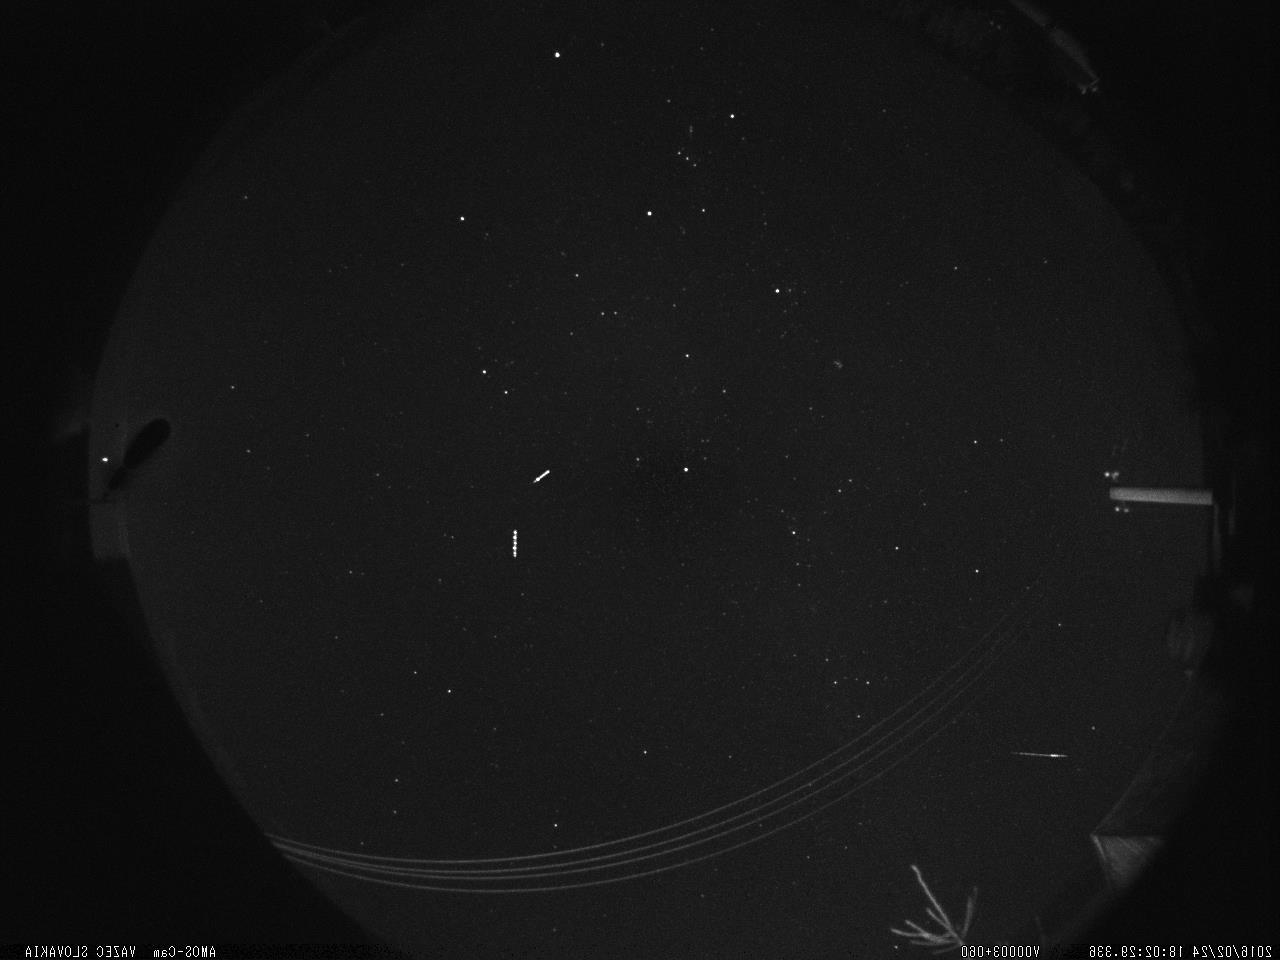meteor: (999, 742, 1076, 765)
